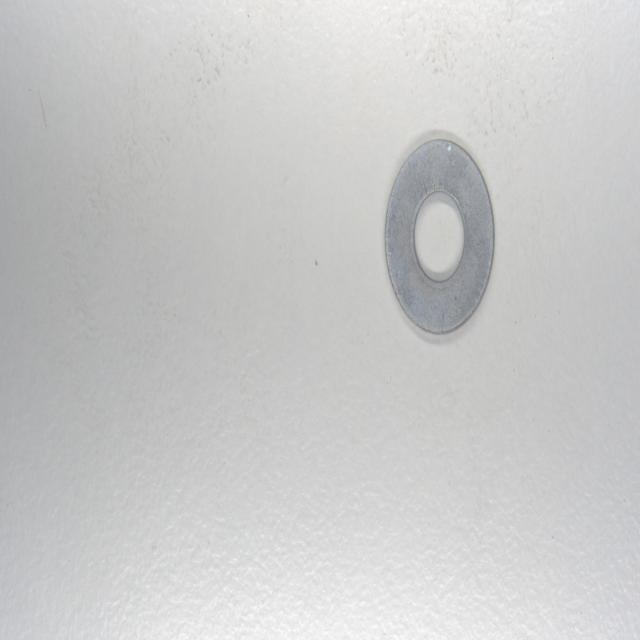washer: (384, 138, 495, 336)
